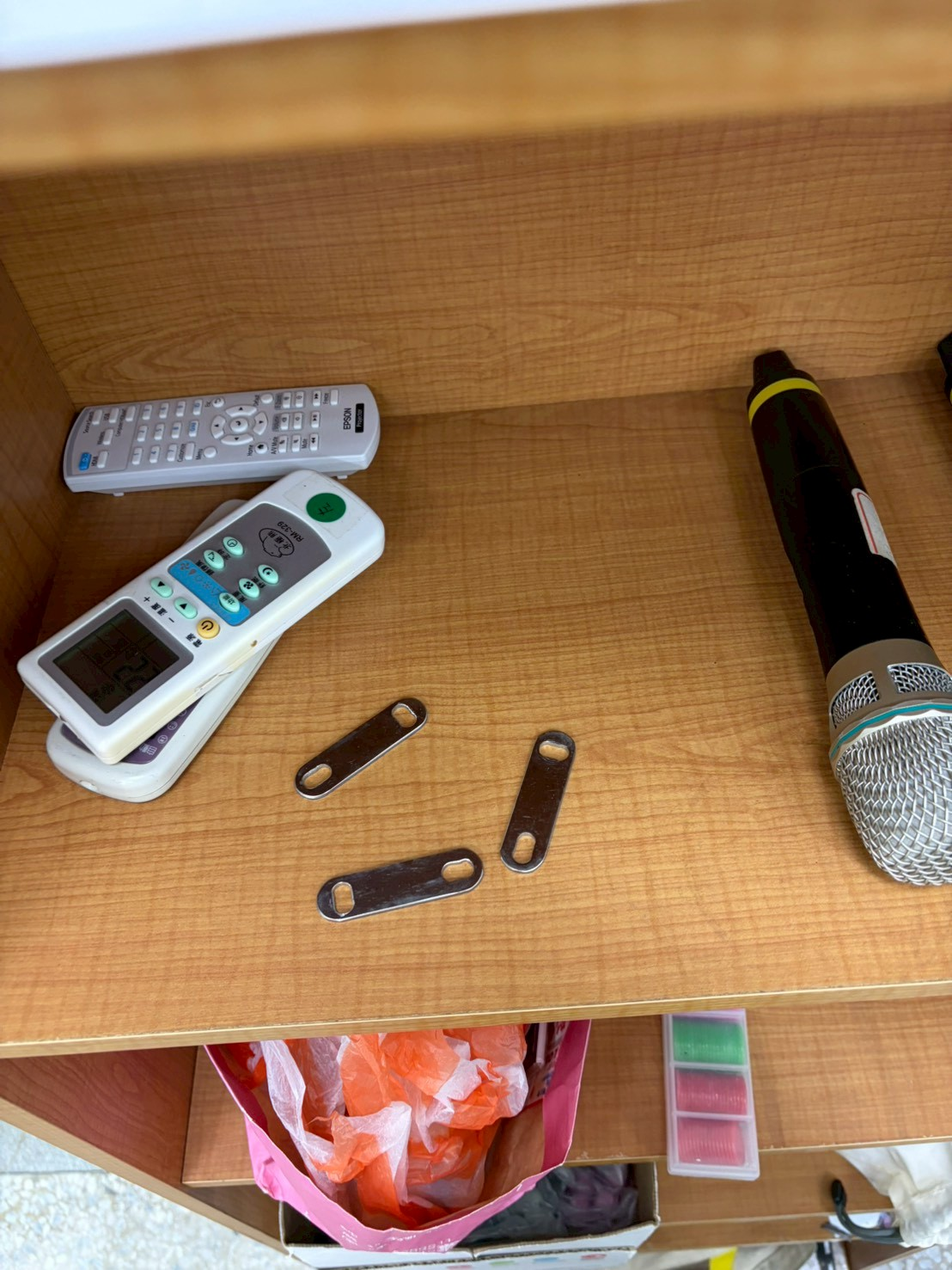Fe: (489, 728, 591, 877), (299, 696, 423, 801), (306, 856, 478, 928)
